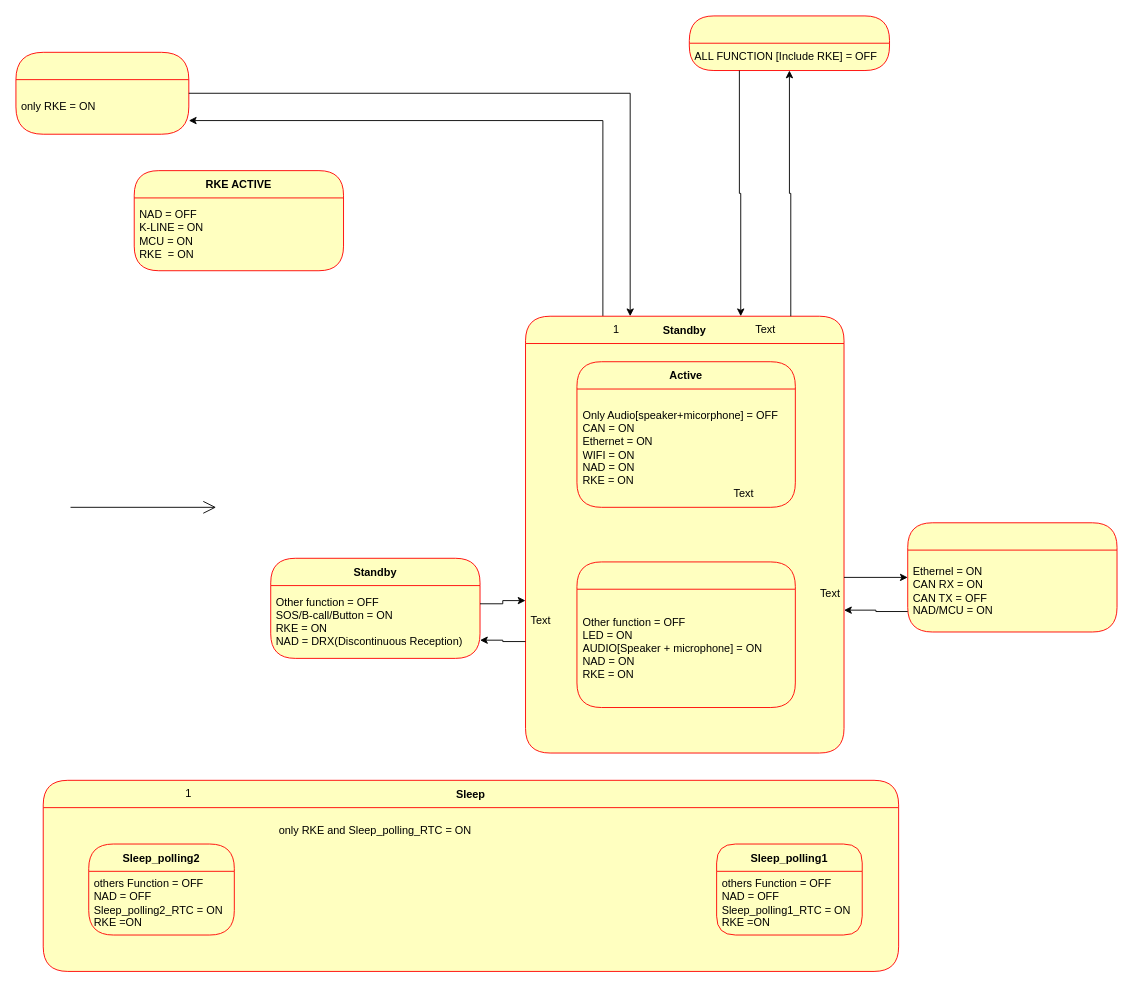
Image size: 1133x987. Some labels were removed from this diagram. The box of each missing label's shape, as (x1, y1, x2, y2) in pixels:
Crash: (576, 561, 795, 708)
Normal OFF: (15, 51, 189, 134)
SWDL: (907, 522, 1117, 632)
Tranport/Factory OFF: (688, 15, 890, 71)
